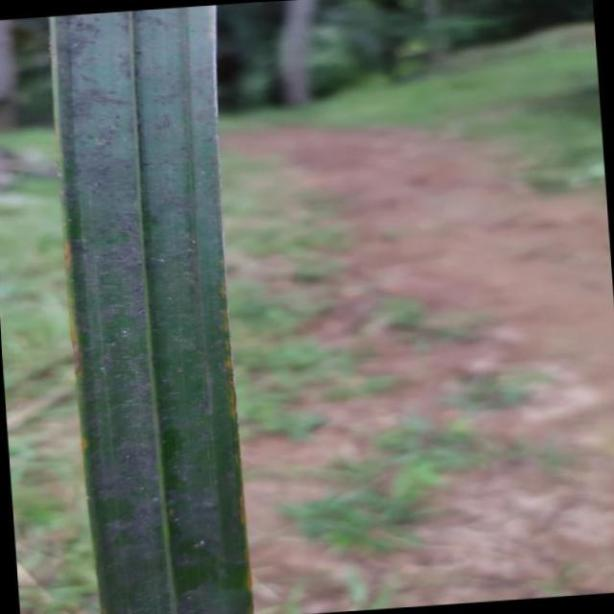Kalium: (45, 5, 249, 614)
